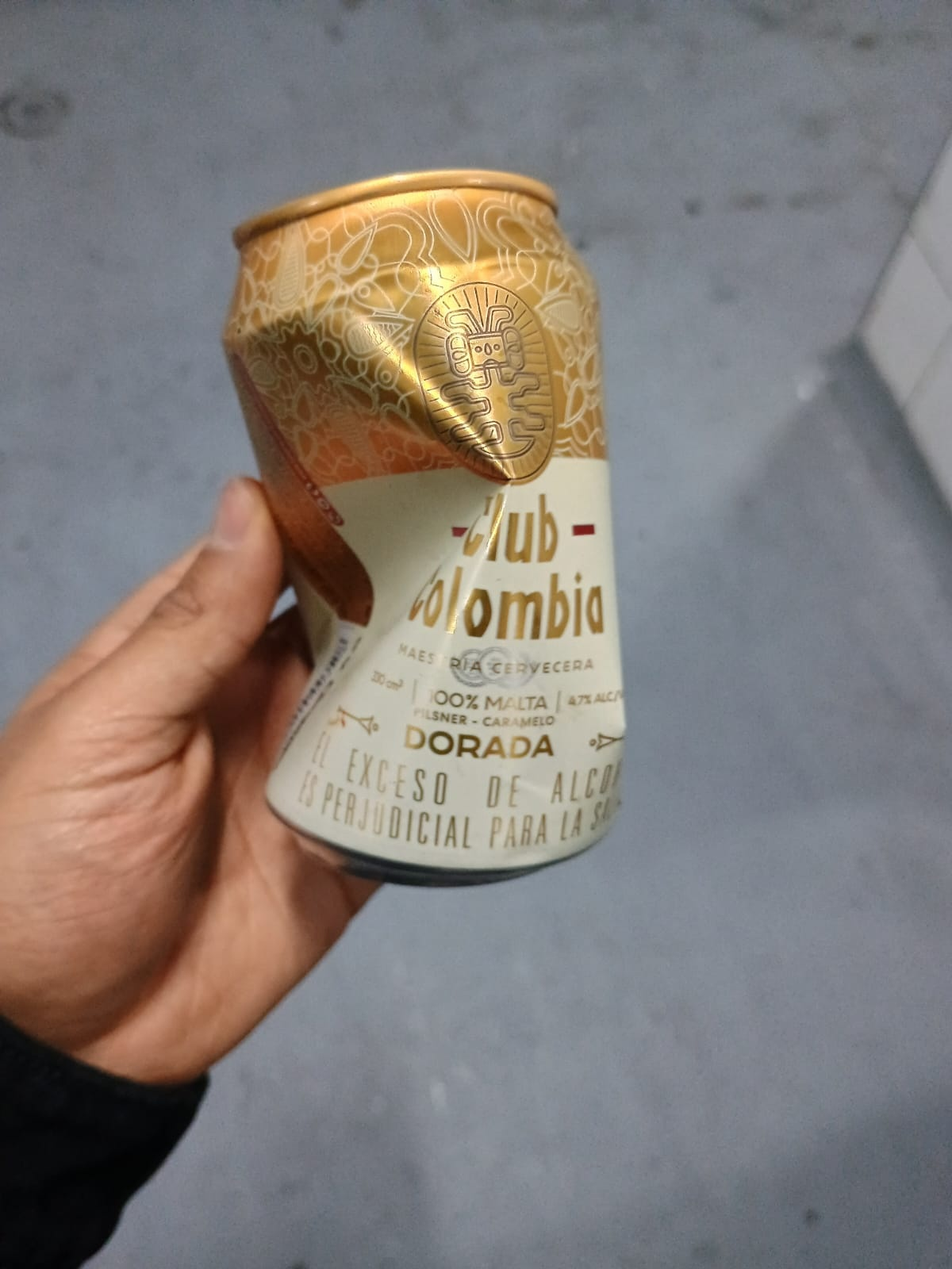Metal: (218, 168, 630, 890)
